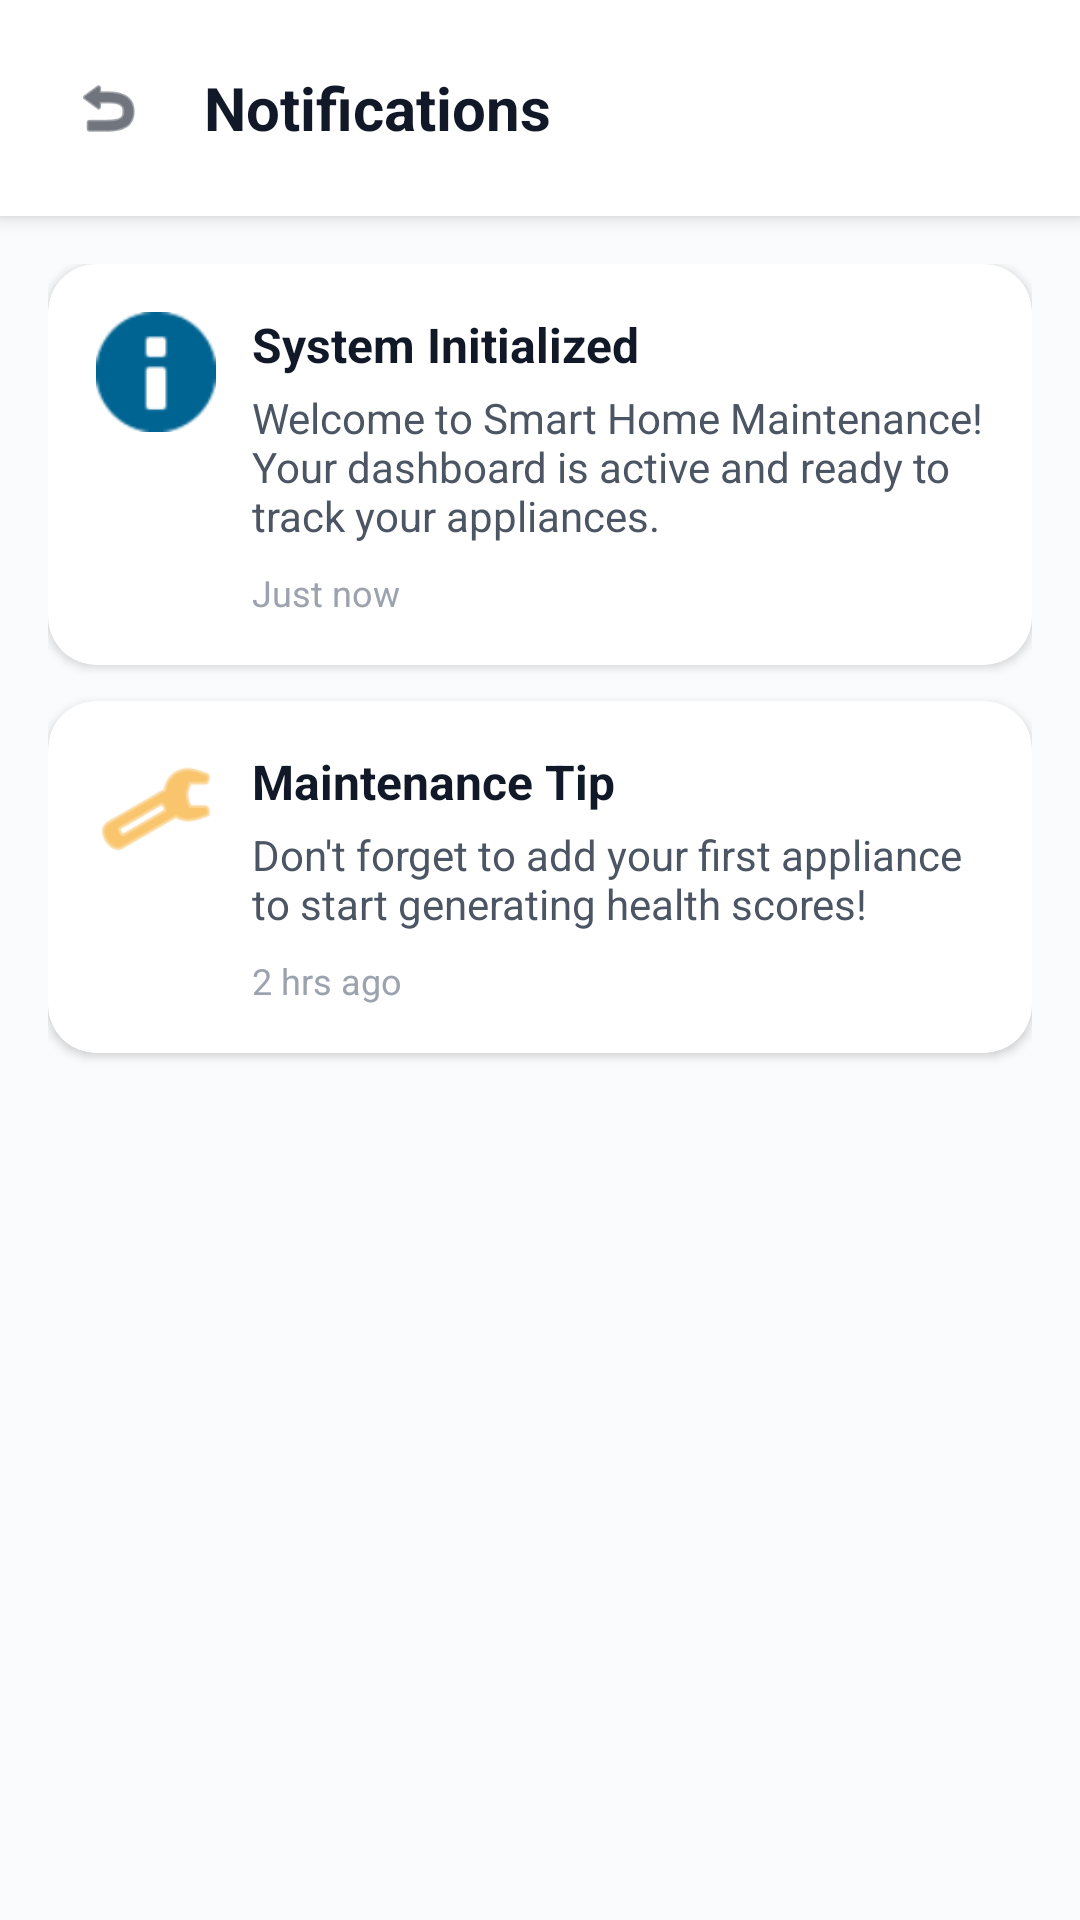

Point at icon controls on the screen. Image size 1080 × 1920, points as point (x, y).
info: point (156, 372)
manage: point (156, 809)
revert: point (109, 108)
